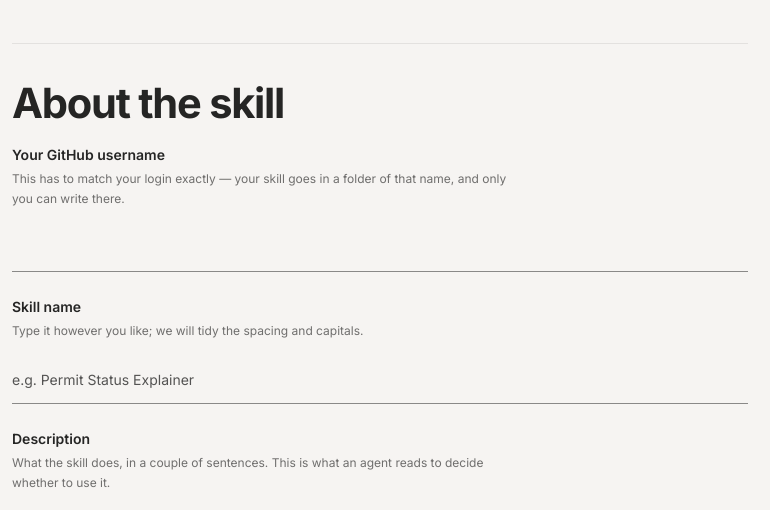
Scenario: the public lookup (api.github.com/users/{name}) › does not leave the last name's verdict on a new one
(page scrolled)
Type "sgarcees" into the field labelled "Your GitHub username" at (380, 248), box [12,225,748,272]
(page scrolled)
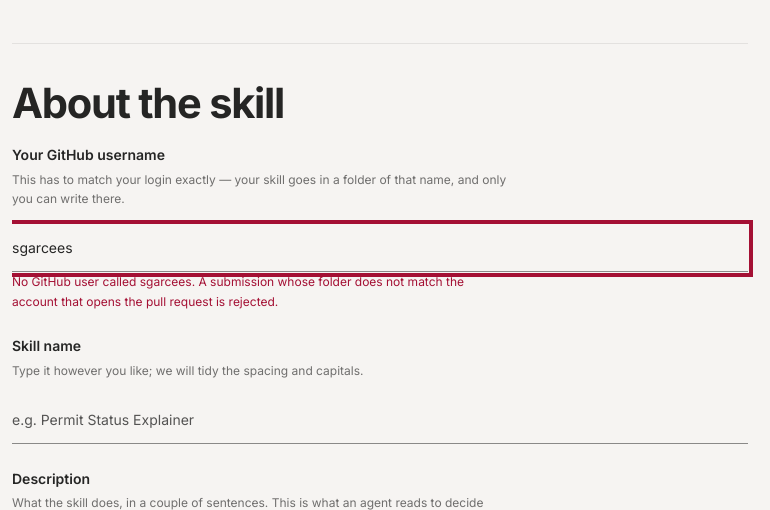
Now the text with test id "no-such-user" is shown, box [12,272,512,311]
Type "x" into the field labelled "Your GitHub username" at (380, 249), box [12,225,748,272]
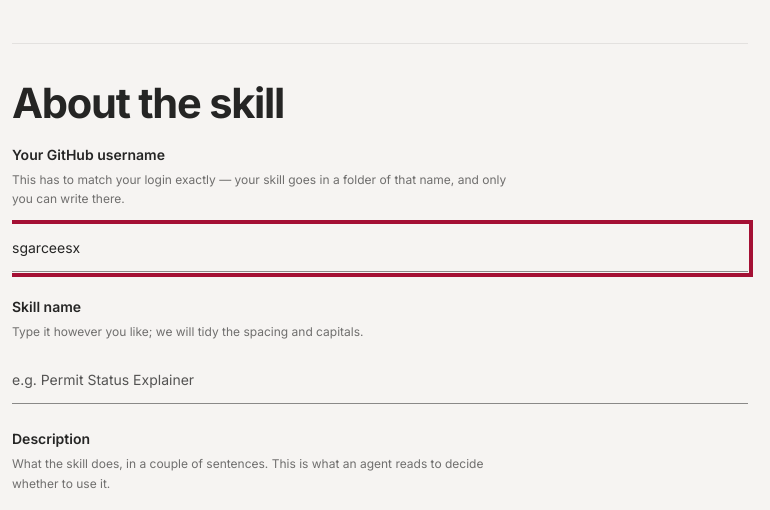
Now the text with test id "no-such-user" is gone
